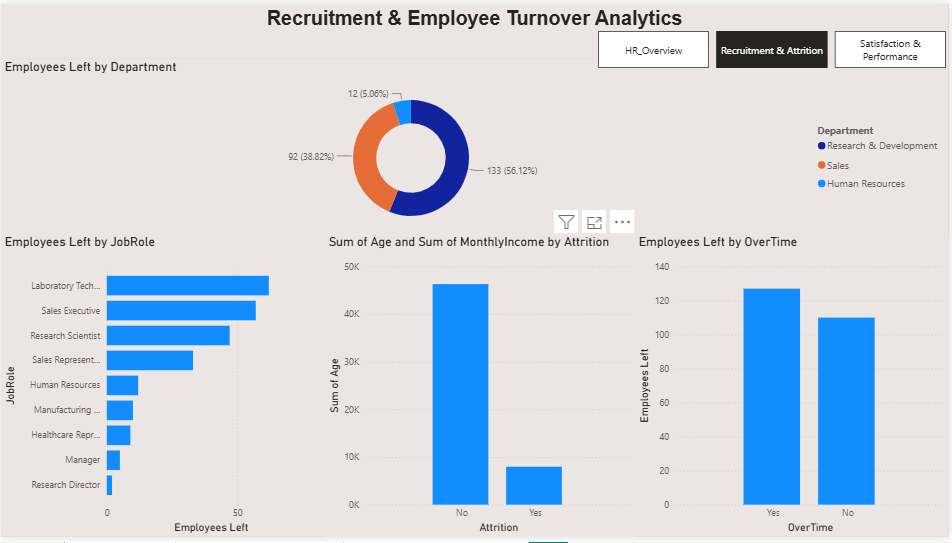

The page's visual inventory and layout, read from the dashboard file:
{"tool":"powerbi","page":{"name":"Recruitment & Attrition","canvas":[1280,720],"ordinal":1},"visuals":[{"type":"textbox","box":[0,0,1280,73.8],"z":0},{"type":"donutChart","fields":{"Category":["HR_Data.Department"],"Y":["HR_Data.Employees Left"]},"box":[0,73.8,1280,237.5],"z":1000},{"type":"barChart","fields":{"Category":["HR_Data.JobRole"],"Y":["HR_Data.Employees Left"]},"box":[0,311.2,437.5,408.8],"z":2000},{"type":"columnChart","fields":{"Y":["HR_Data.Employees Left"],"Category":["HR_Data.OverTime"]},"box":[856.2,311.2,423.8,408.8],"z":3000},{"type":"lineStackedColumnComboChart","fields":{"Category":["HR_Data.Attrition"],"Y":["Sum(HR_Data.Age)"]},"box":[437.5,311.2,418.8,408.8],"z":4000},{"type":"pageNavigator","box":[806.8,36.5,473,50],"z":4001}]}

Visuals, with their boxes in screenshot pixels (x1, y1, x2, y2), scaled from the page's 1280x720 canvas onto the 952x543 screenshot:
textbox: [0,0,951,56]
donutChart - HR_Data.Department x HR_Data.Employees Left: [0,56,951,235]
barChart - HR_Data.JobRole x HR_Data.Employees Left: [0,235,325,542]
columnChart - HR_Data.Employees Left x HR_Data.OverTime: [637,235,951,542]
lineStackedColumnComboChart - HR_Data.Attrition x Sum(HR_Data.Age): [325,235,637,542]
pageNavigator: [600,28,951,65]
